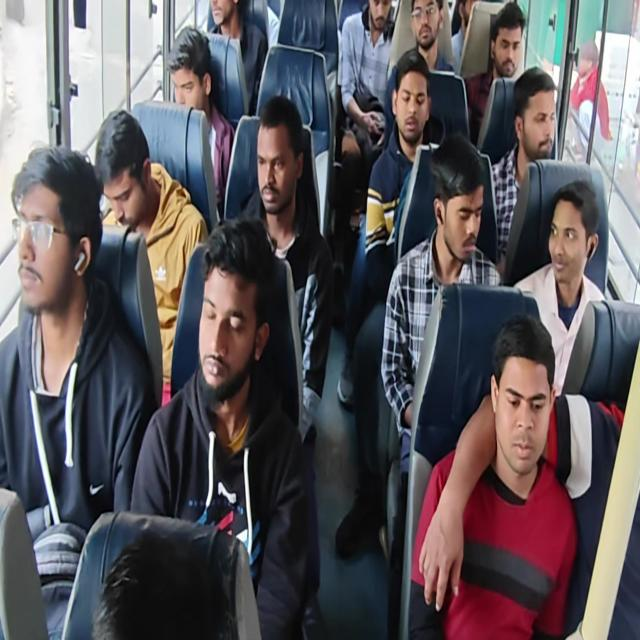person: (1, 1, 636, 638), (0, 143, 156, 638), (130, 216, 310, 638), (408, 313, 578, 638), (380, 132, 502, 492), (336, 50, 442, 409), (94, 109, 209, 406), (237, 94, 334, 438), (513, 180, 607, 398), (90, 525, 262, 639), (490, 65, 558, 268), (166, 26, 235, 217), (338, 0, 395, 231), (384, 0, 457, 146), (465, 1, 525, 144), (206, 0, 267, 114), (568, 38, 612, 156), (398, 0, 456, 75), (450, 0, 476, 69)
